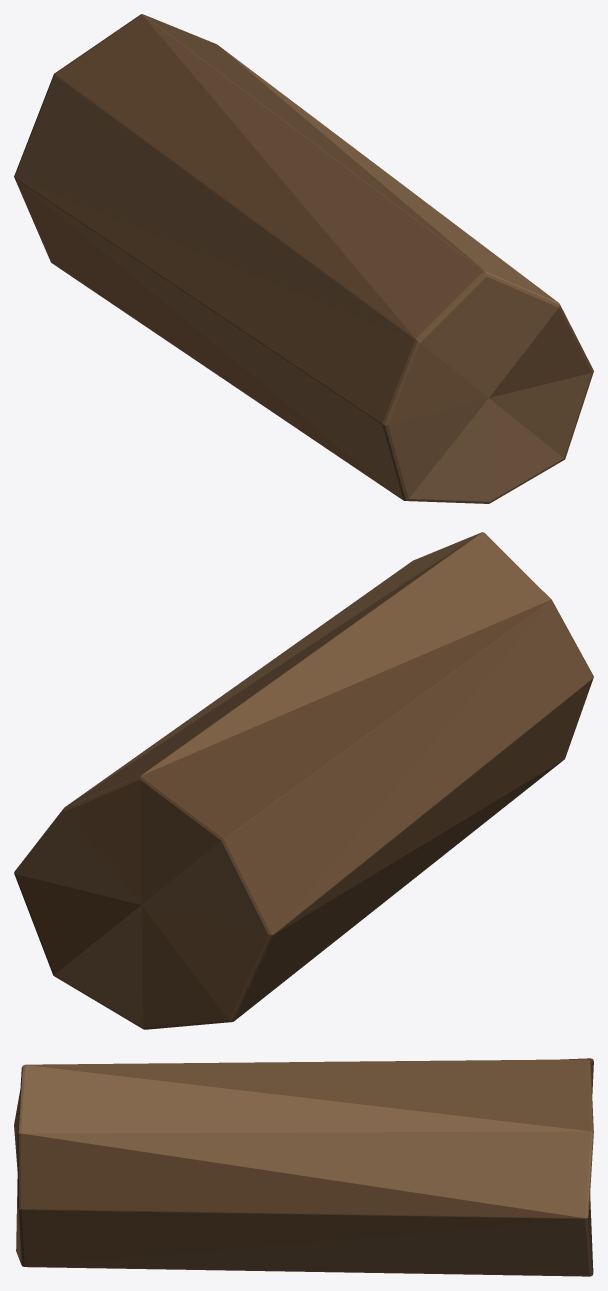
Rendered from WoodLog_b.fbx.
The picture shows the model from 3 angles, top to bottom: view 1: azimuth 30°, elevation 25°; view 2: azimuth 150°, elevation 25°; view 3: azimuth 270°, elevation 25°; orthographic projection. The views are drawn at different scales.
Parts seen in each view (by area): view 1: WoodLog_b; view 2: WoodLog_b; view 3: WoodLog_b.
Boxes of the visible parts, left/top/right/bottom form: WoodLog_b: left=14, top=14, right=593, bottom=503; WoodLog_b: left=14, top=532, right=593, bottom=1029; WoodLog_b: left=14, top=1058, right=593, bottom=1276.
Size of what is drawn, in the model's own units: 0.3889 by 0.3696 by 0.9136.
